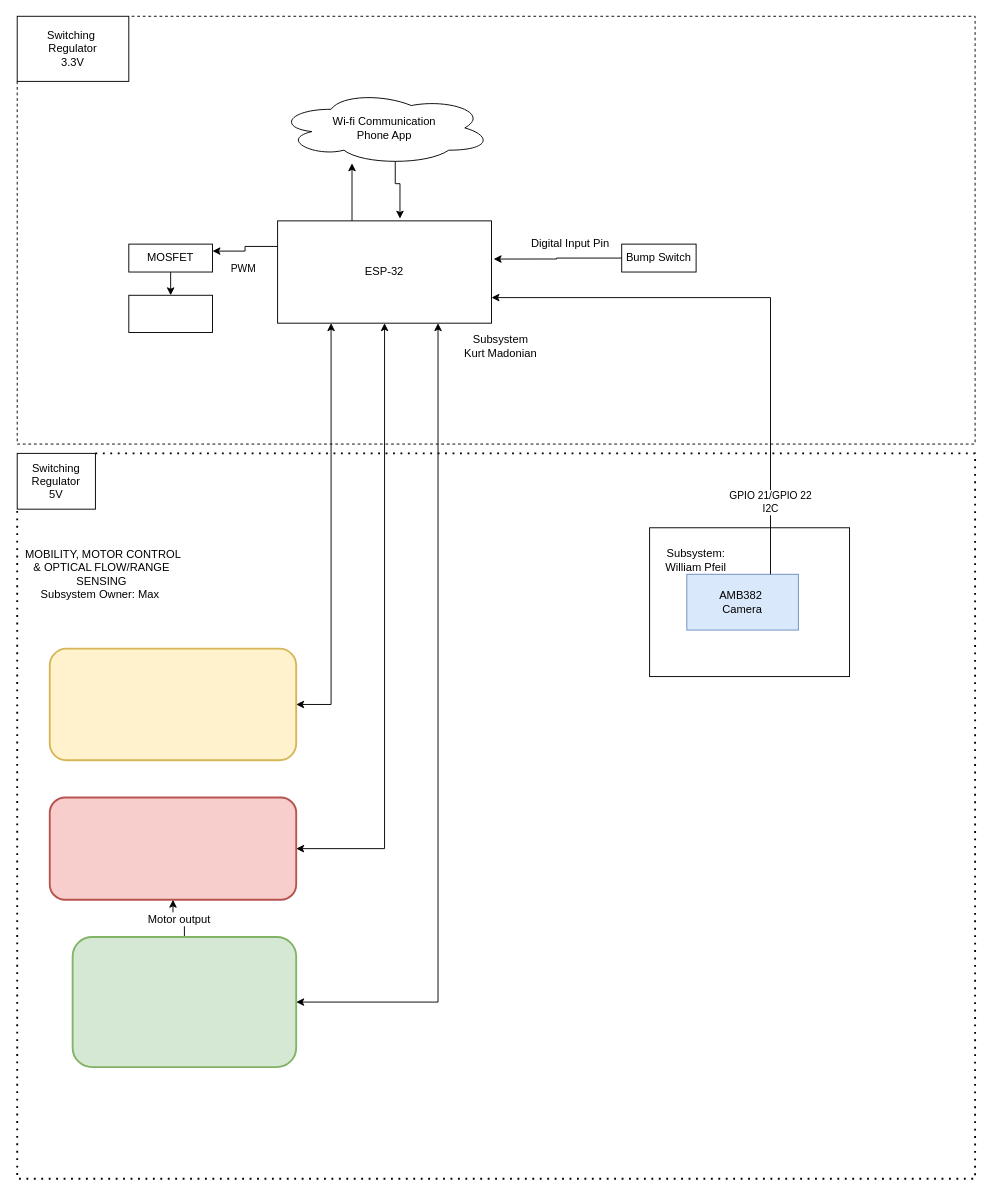
The diagram is 992 pixels wide and 1197 high, and some of its shapes have lost their labels. Here are the shapes that lost their labels. From the top down, the centre of each, then its label:
At pixel 170 313: "XLamp® ML-B LED".
At pixel 172 704: "MTF-02P Optical Flow & Range Sensor UART 115200 TX / RX".
At pixel 172 848: "H-BRIDGE MOTOR DRIVER PWM/EN • IN1 • IN2".
At pixel 184 1002: "ONE 5V N20 DC GEAR MOTOR + ENCODER Encoder A / B".
